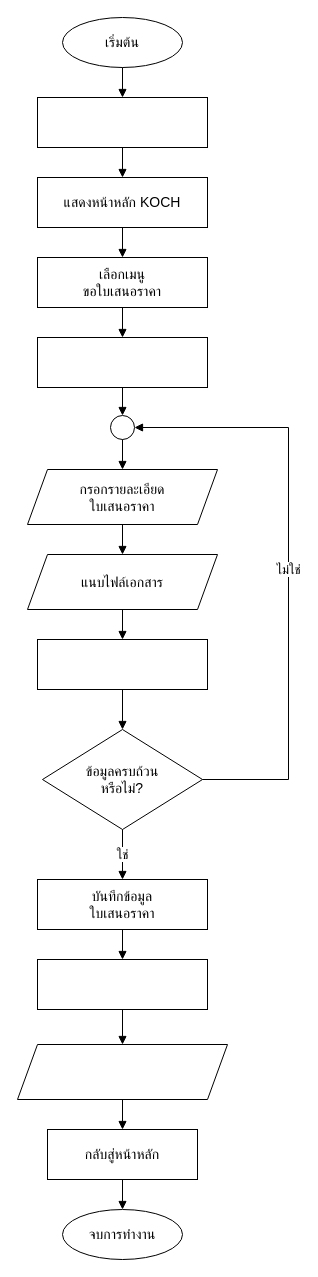
This 318x1277 diagram has some shape labels left out. Each missing label, with the centre of its shape:
กดปุ่ม "ส่งใบเสนอราคา": point 122,664
ส่งการแจ้งเตือน ไปยัง Admin KOCH: point 122,984
เข้าสู่ระบบ User KOCH: point 122,122
แสดงข้อความ "ส่งใบเสนอราคาสำเร็จ": point 122,1072
แสดงแบบฟอร์ม ขอใบเสนอราคา: point 122,362
